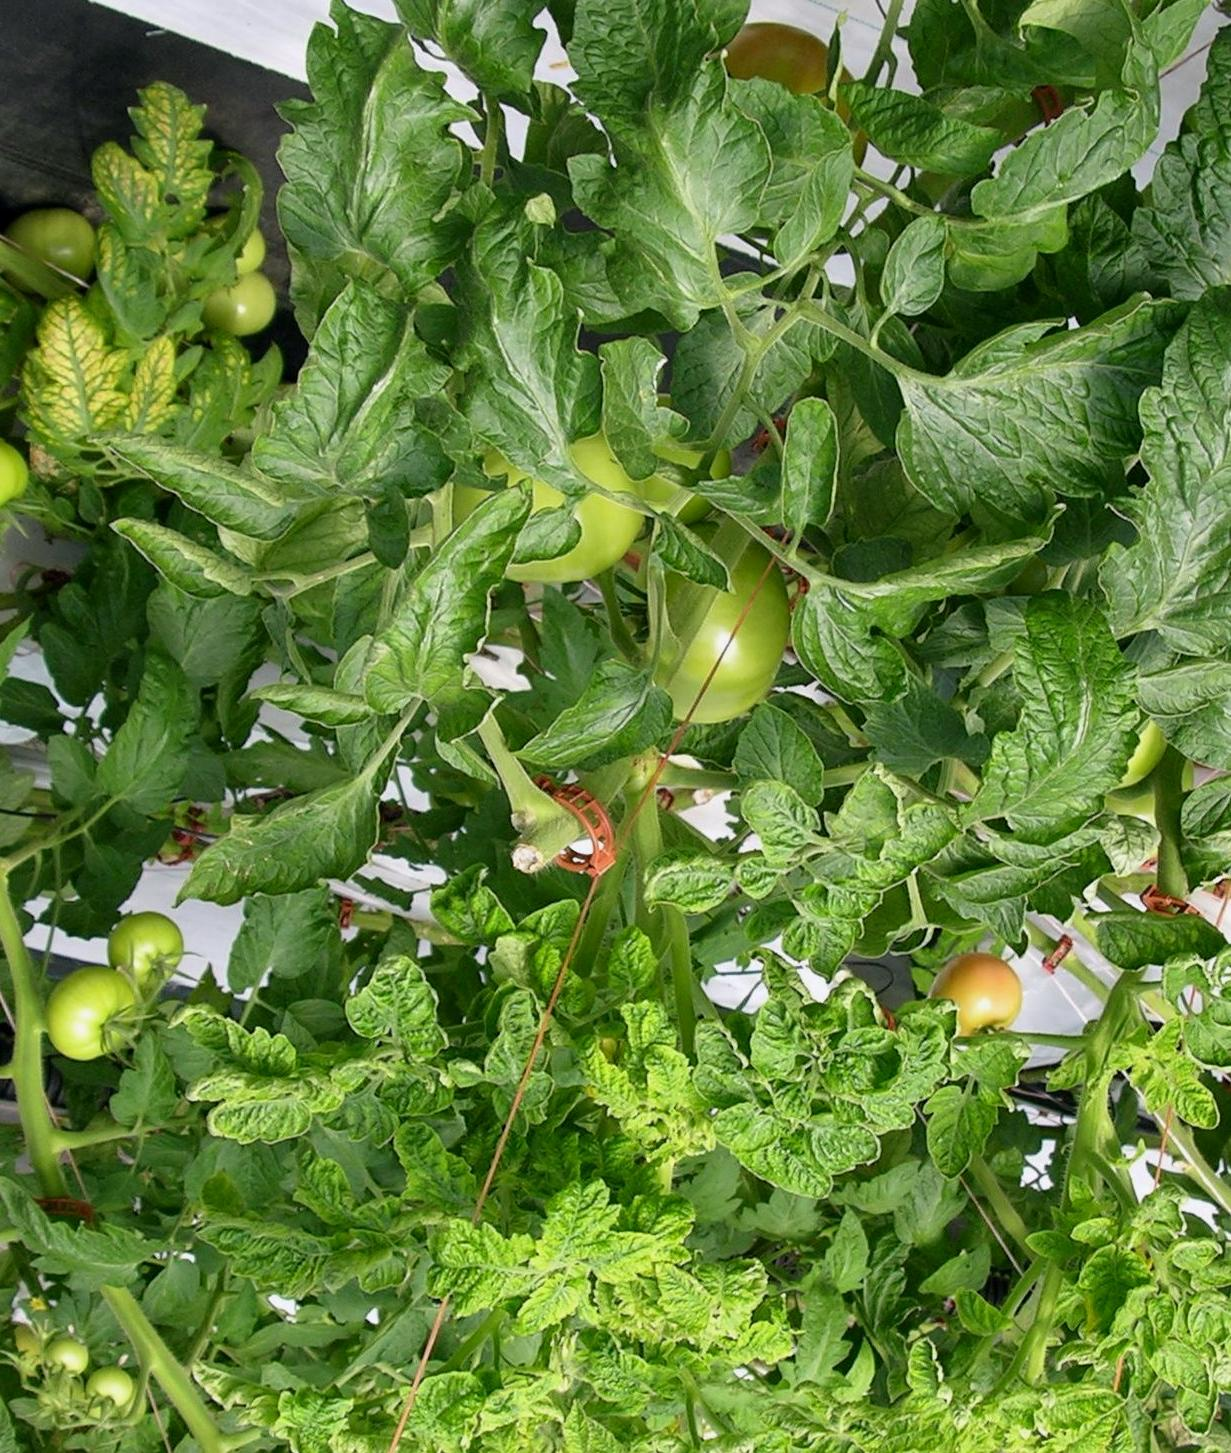Tomato leaf yellow virus: (944, 575, 1149, 844), (87, 70, 249, 339), (1120, 274, 1231, 603), (173, 980, 357, 1150), (20, 300, 131, 465), (321, 943, 468, 1061), (647, 1252, 789, 1357), (399, 1211, 540, 1311), (642, 1013, 719, 1176), (916, 1071, 1008, 1195), (1071, 1241, 1157, 1342), (563, 1009, 637, 1121), (1139, 1059, 1231, 1145), (890, 1327, 962, 1430), (541, 1175, 615, 1267), (553, 1386, 652, 1453), (1148, 1336, 1220, 1398)
